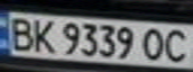3: (97, 21, 118, 60), (78, 20, 100, 57)
9: (57, 19, 81, 56), (115, 24, 139, 61)
B: (3, 15, 36, 52)
C: (160, 26, 193, 64)
K: (27, 17, 57, 54)
O: (139, 25, 172, 62)
